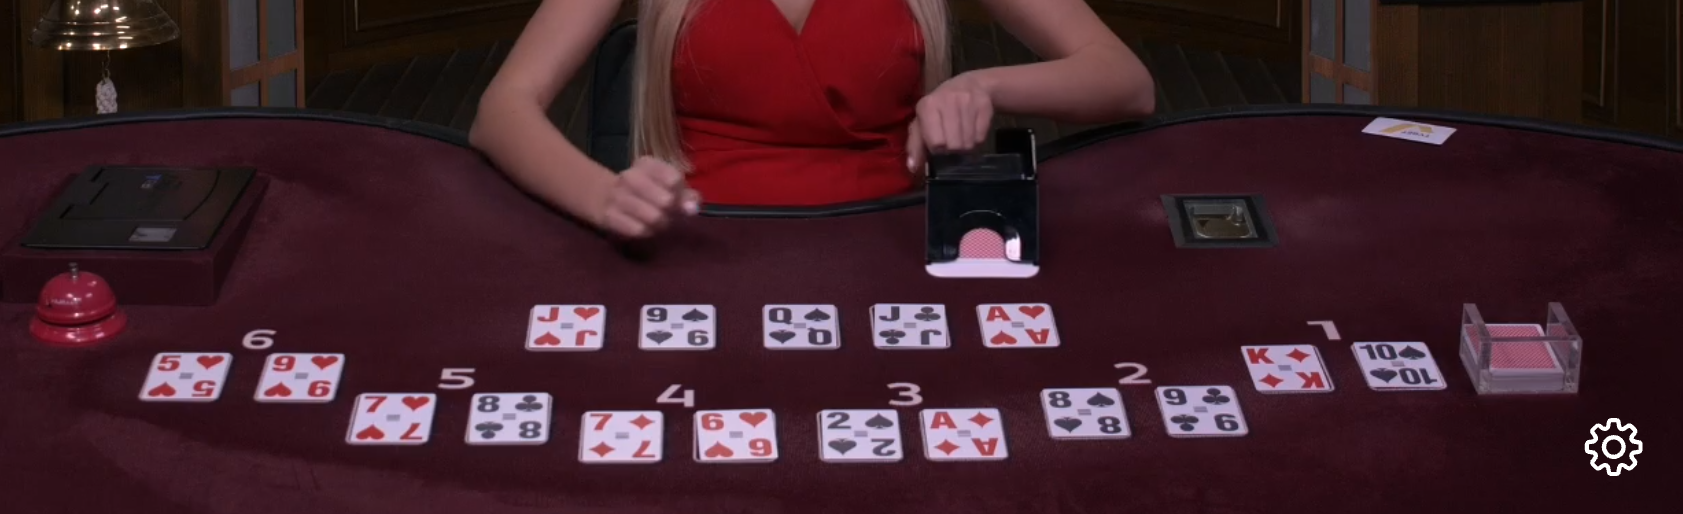10s: (1344, 337, 1455, 397)
2s: (815, 406, 903, 471)
5h: (140, 346, 228, 403)
6h: (689, 406, 781, 472)
7d: (576, 403, 668, 469)
7h: (348, 390, 437, 449)
8c: (467, 388, 559, 449)
8s: (1036, 381, 1135, 441)
9c: (1156, 377, 1252, 441)
9h: (253, 349, 343, 408)
9s: (636, 299, 723, 355)
asd: (918, 405, 1014, 465)
ash: (974, 297, 1065, 350)
jc: (866, 298, 955, 353)
jh: (529, 302, 608, 351)
kd: (1243, 339, 1345, 397)
qs: (758, 302, 843, 352)
